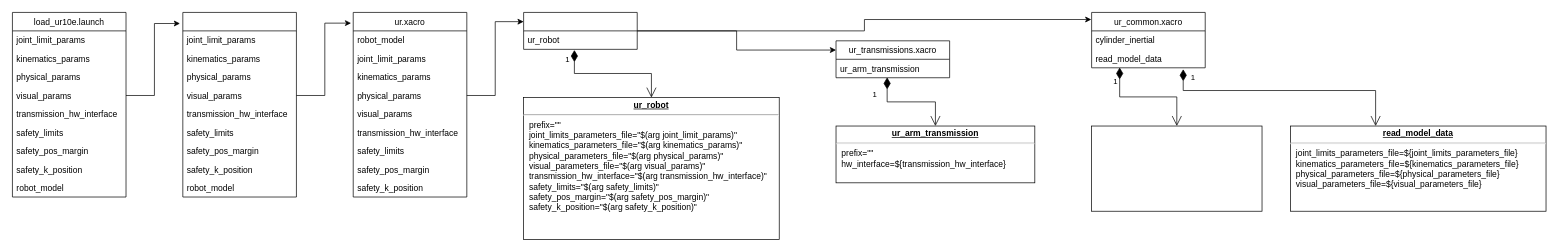
Some shapes in this 1558 by 252 pixel diagram are drawn without their labels. The shapes that lost their labels are listed below. From the top down, each one's box as (x1, y1, x2, y2) in pixels, then its label:
(523, 12, 637, 49): ur_macro.xacro
(182, 12, 296, 197): load_ur.launch
(1091, 125, 1262, 211): cylinder_inertia radius length mass *origin
